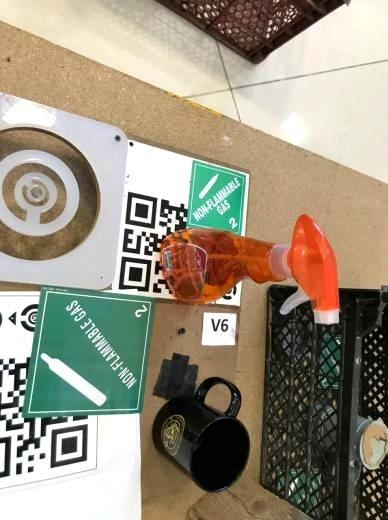non-flammable-gas: (22, 285, 154, 417), (186, 158, 246, 235)
